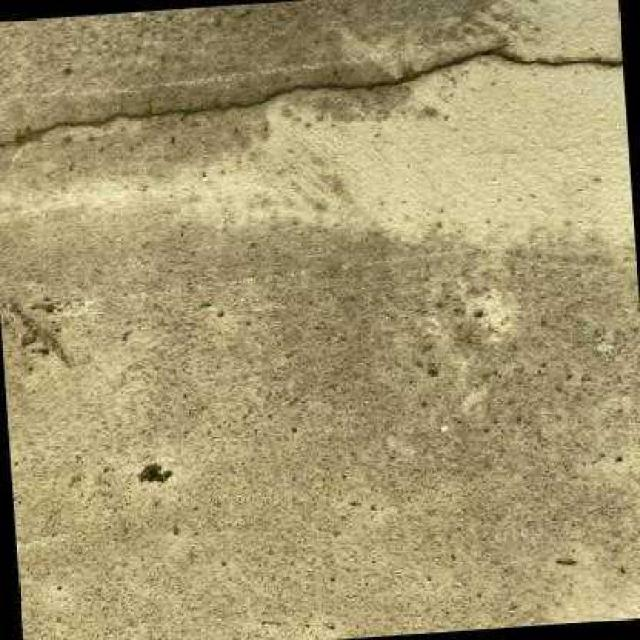D00: (0, 47, 623, 151)
